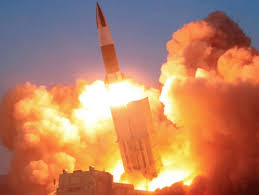ten_lua: (90, 2, 157, 182)
